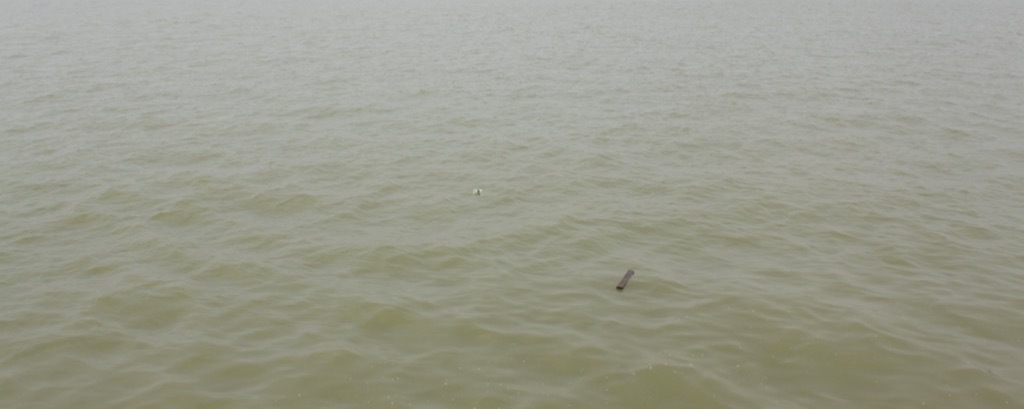organic: (612, 265, 639, 297)
plastic: (467, 181, 487, 200)
